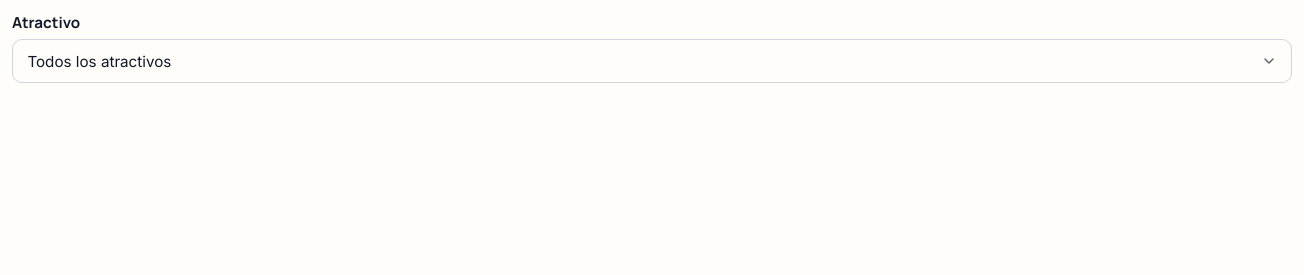
Test case: SelectField (combobox ARIA 1.2) › agrupa las opciones con role group y aria-label
This screenshot has width=1304, height=275.
Click the dropdown labelled "atractivo".
click(99, 61)  # box left=12, top=39, right=1292, bottom=83
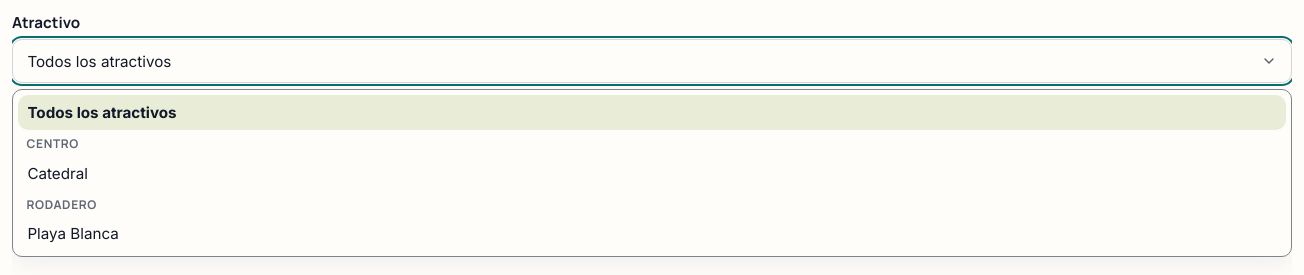
Now the element "Centro" is shown, box left=27, top=135, right=88, bottom=183
Now the element "Rodadero" is shown, box left=27, top=196, right=119, bottom=243
Now the option "Todos los atractivos" is shown, box left=18, top=95, right=1286, bottom=130
